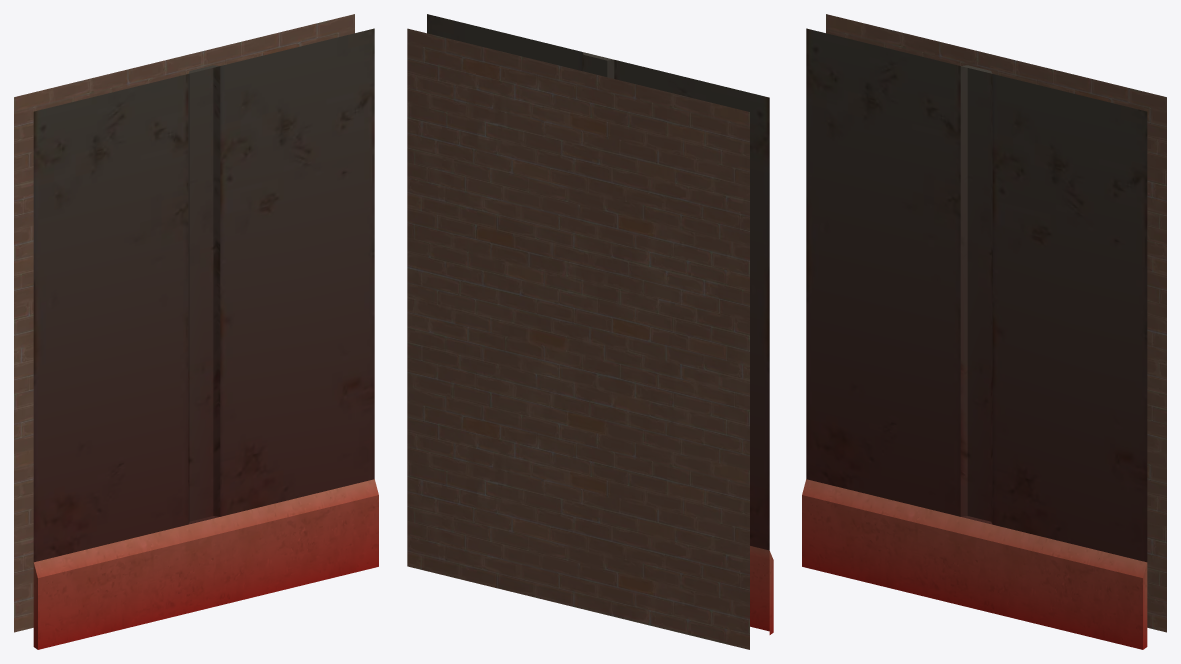
Rendered from Metal_FirstFloor_Wall.glb.
The picture shows the model from 3 angles, left to right: view 1: azimuth 30°, elevation 25°; view 2: azimuth 150°, elevation 25°; view 3: azimuth 330°, elevation 25°; orthographic projection.
Visible parts, largest first — view 1: Metal_FirstFloor_Wall; view 2: Metal_FirstFloor_Wall; view 3: Metal_FirstFloor_Wall.
Part boxes in pixels (bbox=[...]): Metal_FirstFloor_Wall: bbox=[14, 14, 378, 649]; Metal_FirstFloor_Wall: bbox=[407, 14, 773, 649]; Metal_FirstFloor_Wall: bbox=[802, 14, 1166, 649].
Size of the model in its own units: 2 by 3 by 0.242.
3 materials, 3 textured.
